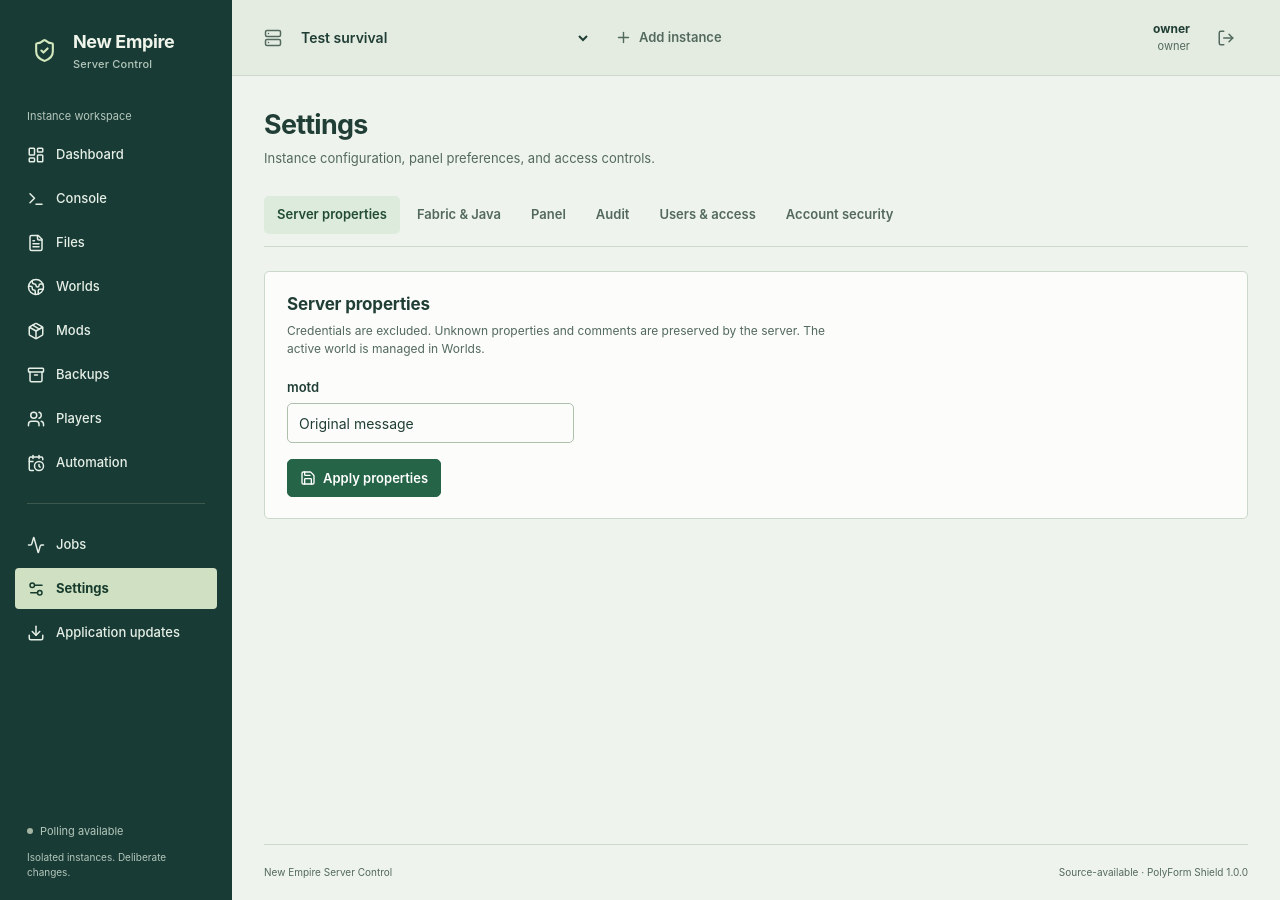
Scenario: drafts survive failed background refreshes › keeps an edited field mounted when /instances fails, including during retry
Replace the text in the field labelled "motd" with "Local draft" at (430, 423), box [287,403,574,443]
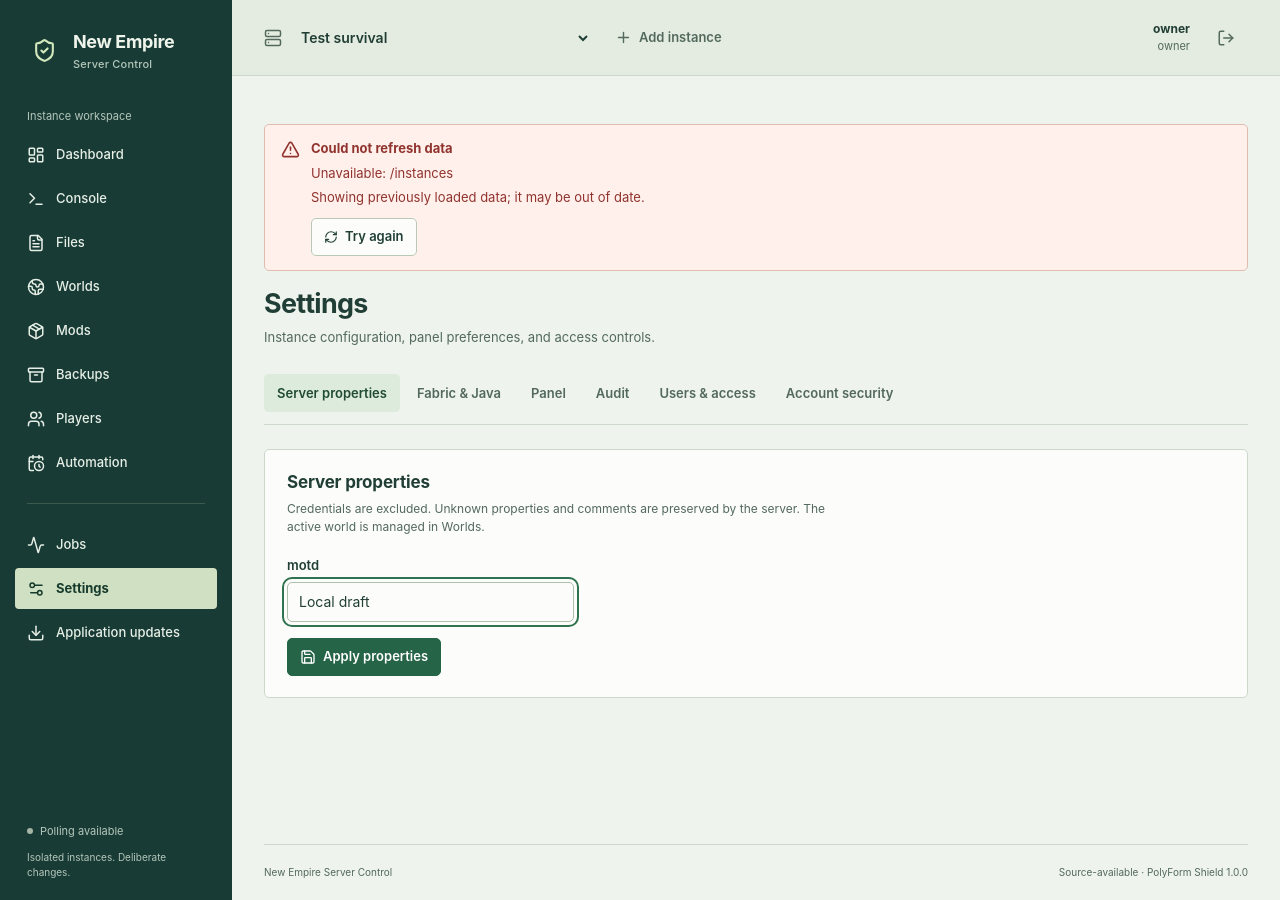
Check: the text "Unavailable: /instances" is shown, box [311,164,453,180]
Check: the text "Showing previously loaded data; it may be out of date." is shown, box [311,188,645,208]
Click the button "Try again" at (364, 236), box [311,218,417,256]
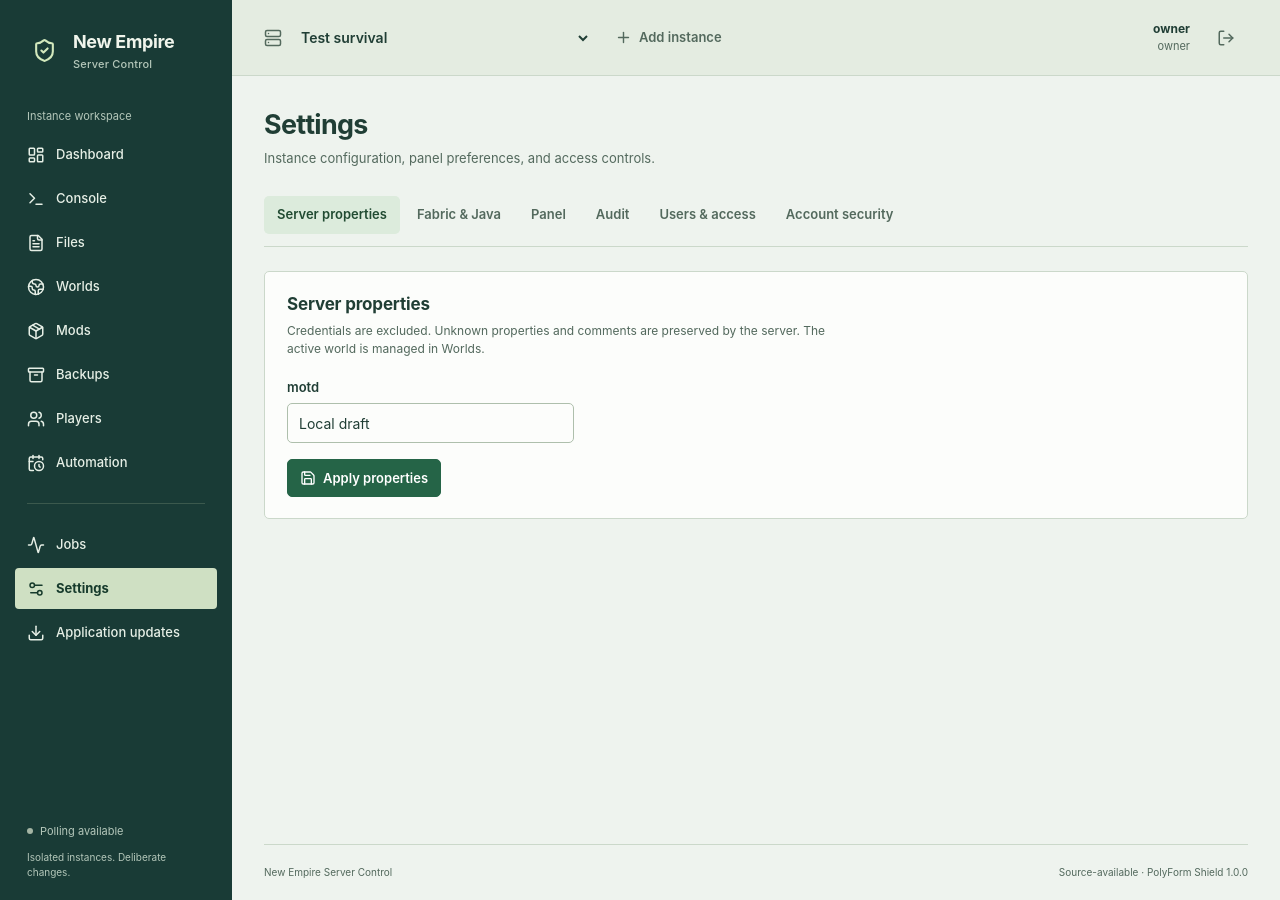
Check: the text "Unavailable: /instances" is gone
